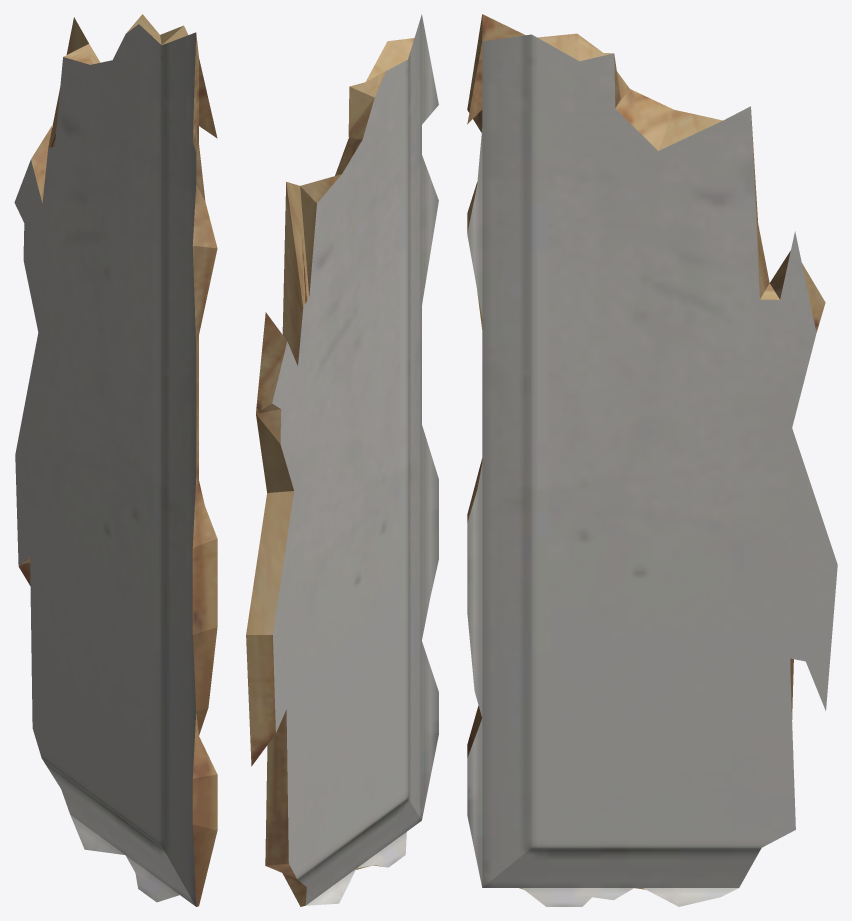
File: door_interior_112_01_dm01_02.glb
The picture shows the model from 3 angles, left to right: view 1: azimuth 30°, elevation 25°; view 2: azimuth 150°, elevation 25°; view 3: azimuth 270°, elevation 25°; orthographic projection. The views are drawn at different scales.
Visible parts, largest first — view 1: door_interior_112_01_dm01_02; view 2: door_interior_112_01_dm01_02; view 3: door_interior_112_01_dm01_02.
Boxes of the visible parts, x1,y1,x2,y2 form: door_interior_112_01_dm01_02: [14, 14, 217, 906]; door_interior_112_01_dm01_02: [246, 14, 438, 906]; door_interior_112_01_dm01_02: [467, 14, 837, 906].
Size of the model in its own units: 0.0183 by 0.6281 by 0.238.
1 material, 1 textured.
